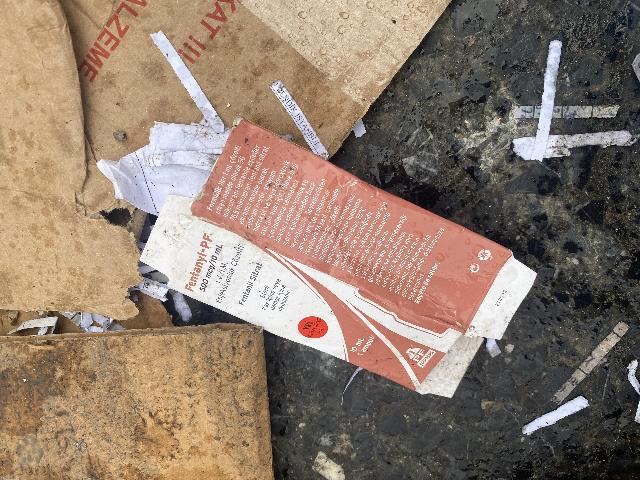Kagit: (0, 0, 487, 480), (90, 86, 524, 395), (549, 319, 640, 400), (532, 116, 640, 165), (511, 389, 603, 437), (541, 21, 565, 165)
